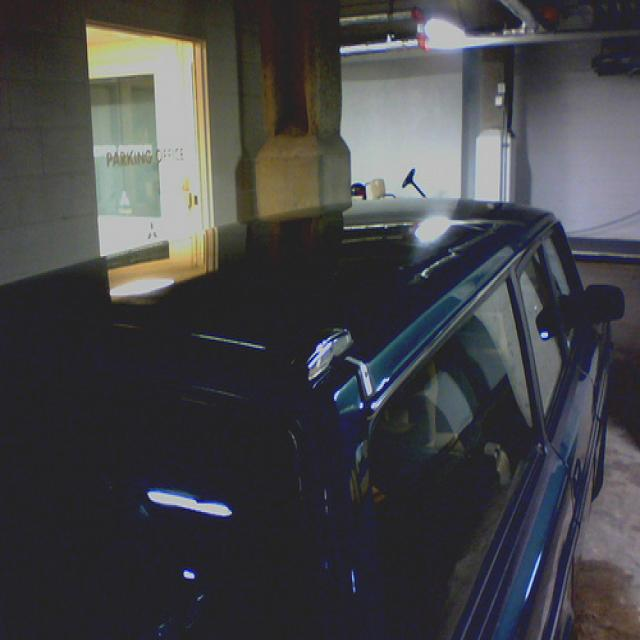Car: (0, 194, 619, 640)
